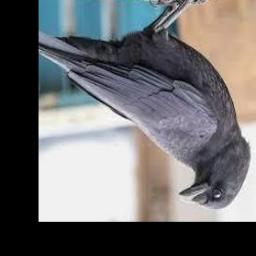Crow: (39, 0, 251, 209)
